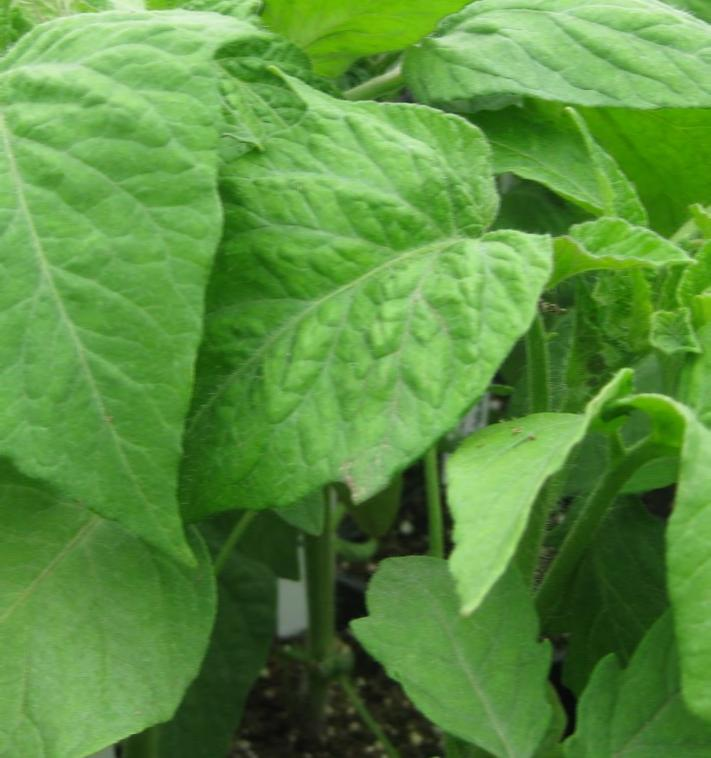Tomato leaf: (0, 0, 229, 569), (351, 0, 711, 113)
